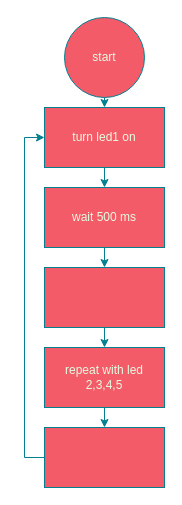
This 182x505 diagram has some shape labels left out. Here are the shapes that lost their labels. From the top down, the centre of each, then its label:
At pixel 104 297: "turn led1 off".
At pixel 104 457: "loop".
